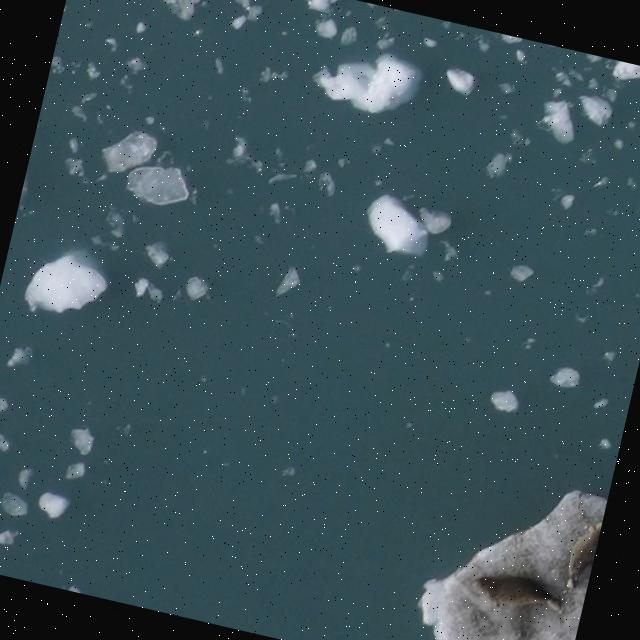seal: (466, 574, 561, 612), (567, 517, 602, 589)
